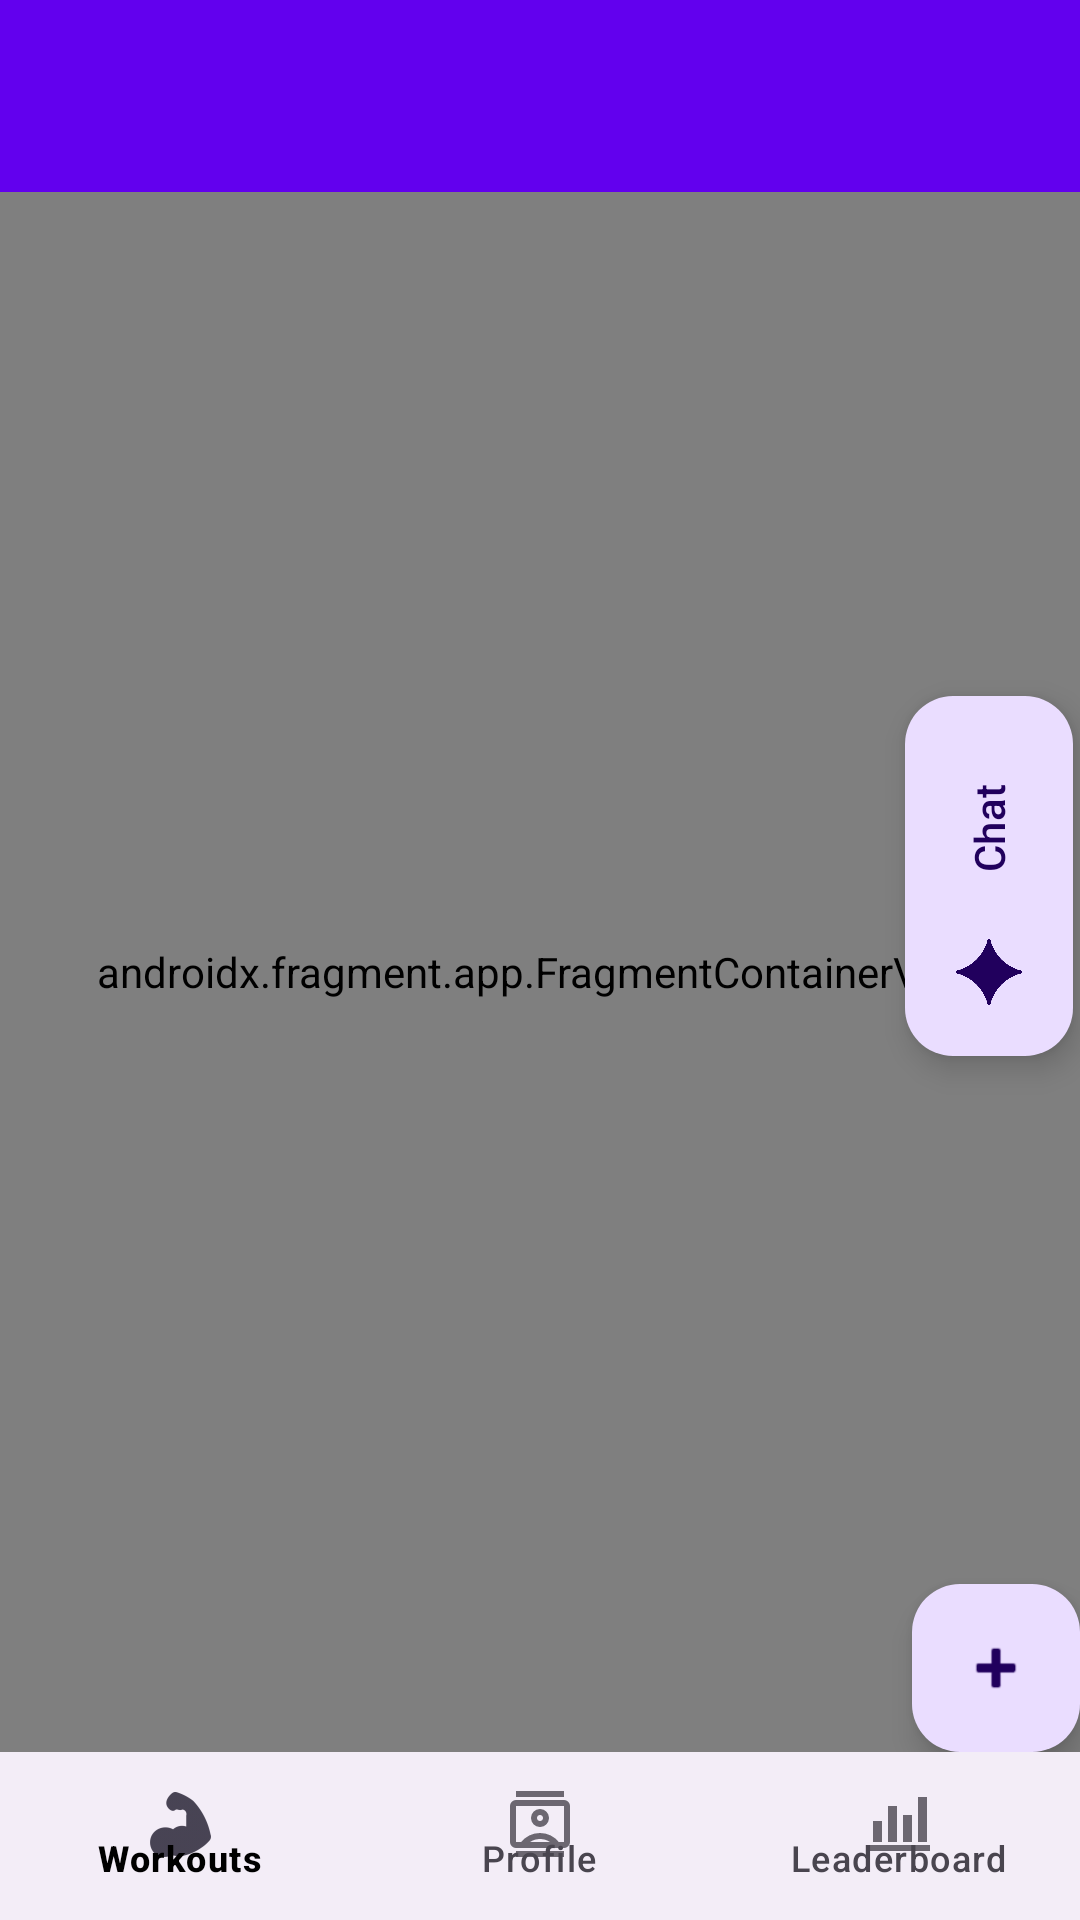

Screen size 1080 x 1920. Icon name, then its box in pixels as (x1, y1, x2, y2):
Represents a view to invoke an action: (912, 1584, 1080, 1752)
